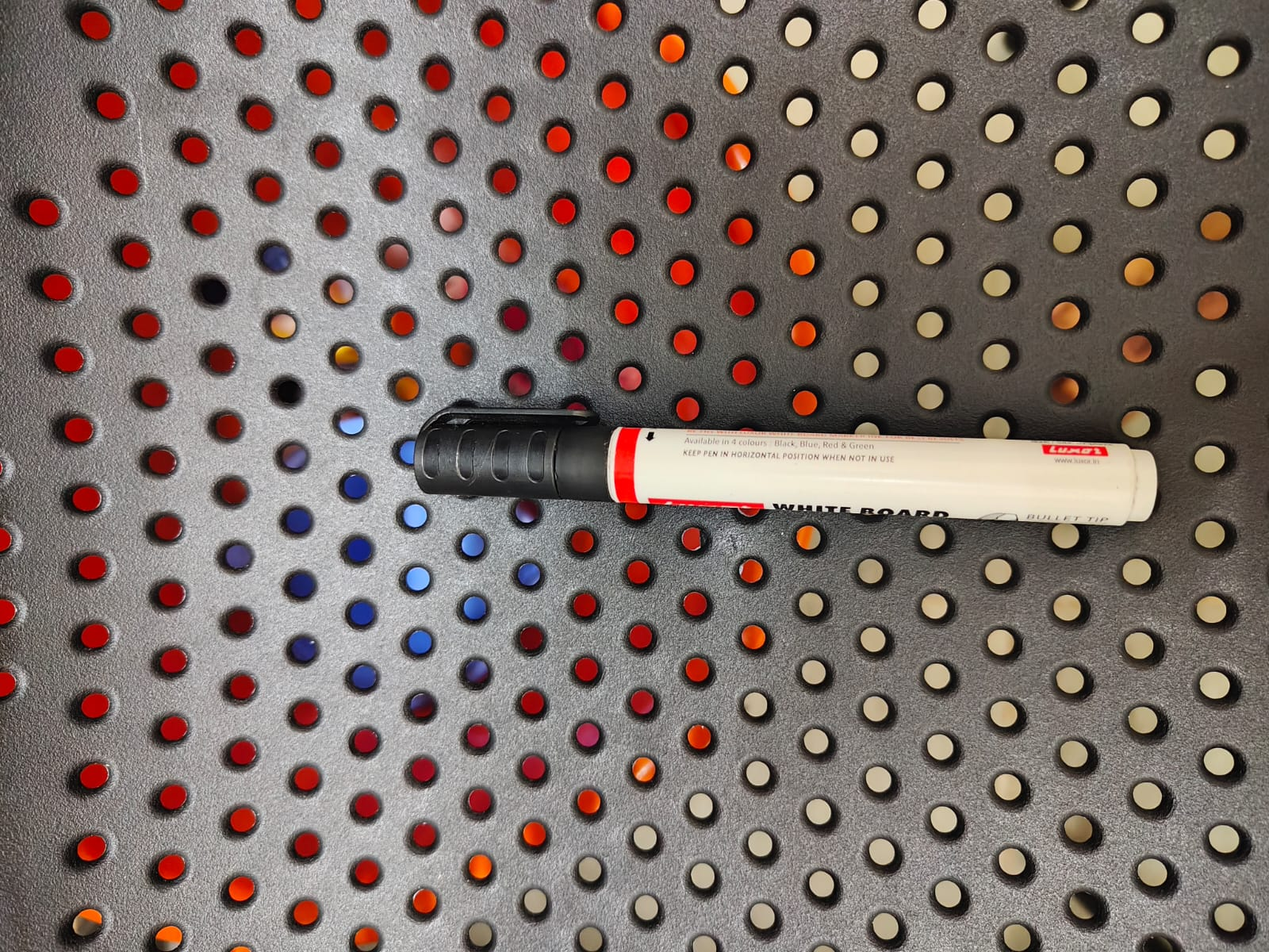case: (364, 344, 1237, 603)
